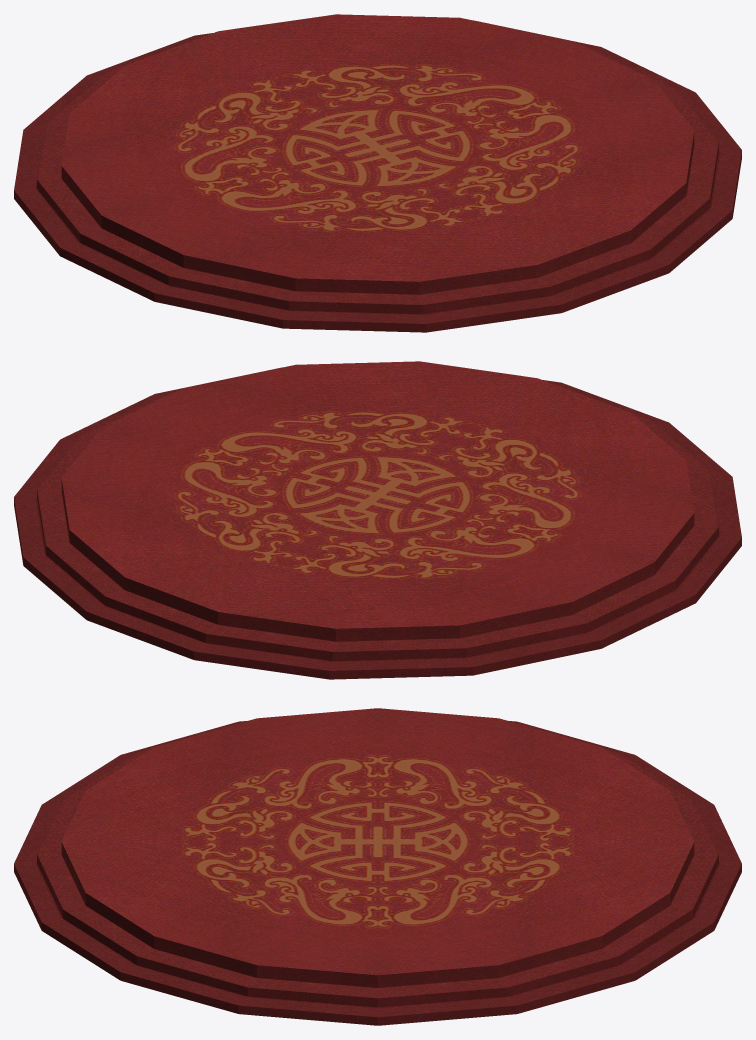
The model's file is fb_baitang_yuantai01.FBX.
3 views of the same model, one above another, from view 1: azimuth 30°, elevation 25°; view 2: azimuth 150°, elevation 25°; view 3: azimuth 270°, elevation 25° (orthographic).
Visible parts, largest first — view 1: fb_baitang_yuantai01; view 2: fb_baitang_yuantai01; view 3: fb_baitang_yuantai01.
Part boxes in pixels (bbox=[...]): fb_baitang_yuantai01: bbox=[14, 14, 741, 332]; fb_baitang_yuantai01: bbox=[14, 361, 741, 679]; fb_baitang_yuantai01: bbox=[14, 708, 741, 1025].
Size of the model in its own units: 694 by 31.9 by 694.
